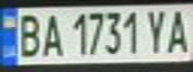1: (121, 8, 142, 55), (66, 9, 87, 55)
3: (103, 8, 124, 55)
7: (84, 9, 106, 55)
A: (163, 6, 193, 55), (39, 10, 66, 57)
B: (12, 10, 45, 58)
Y: (142, 7, 172, 55)
